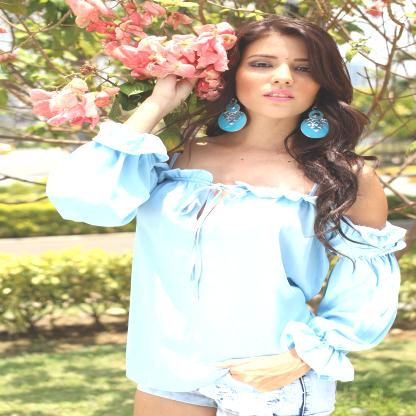jacket: (114, 328, 336, 416)
